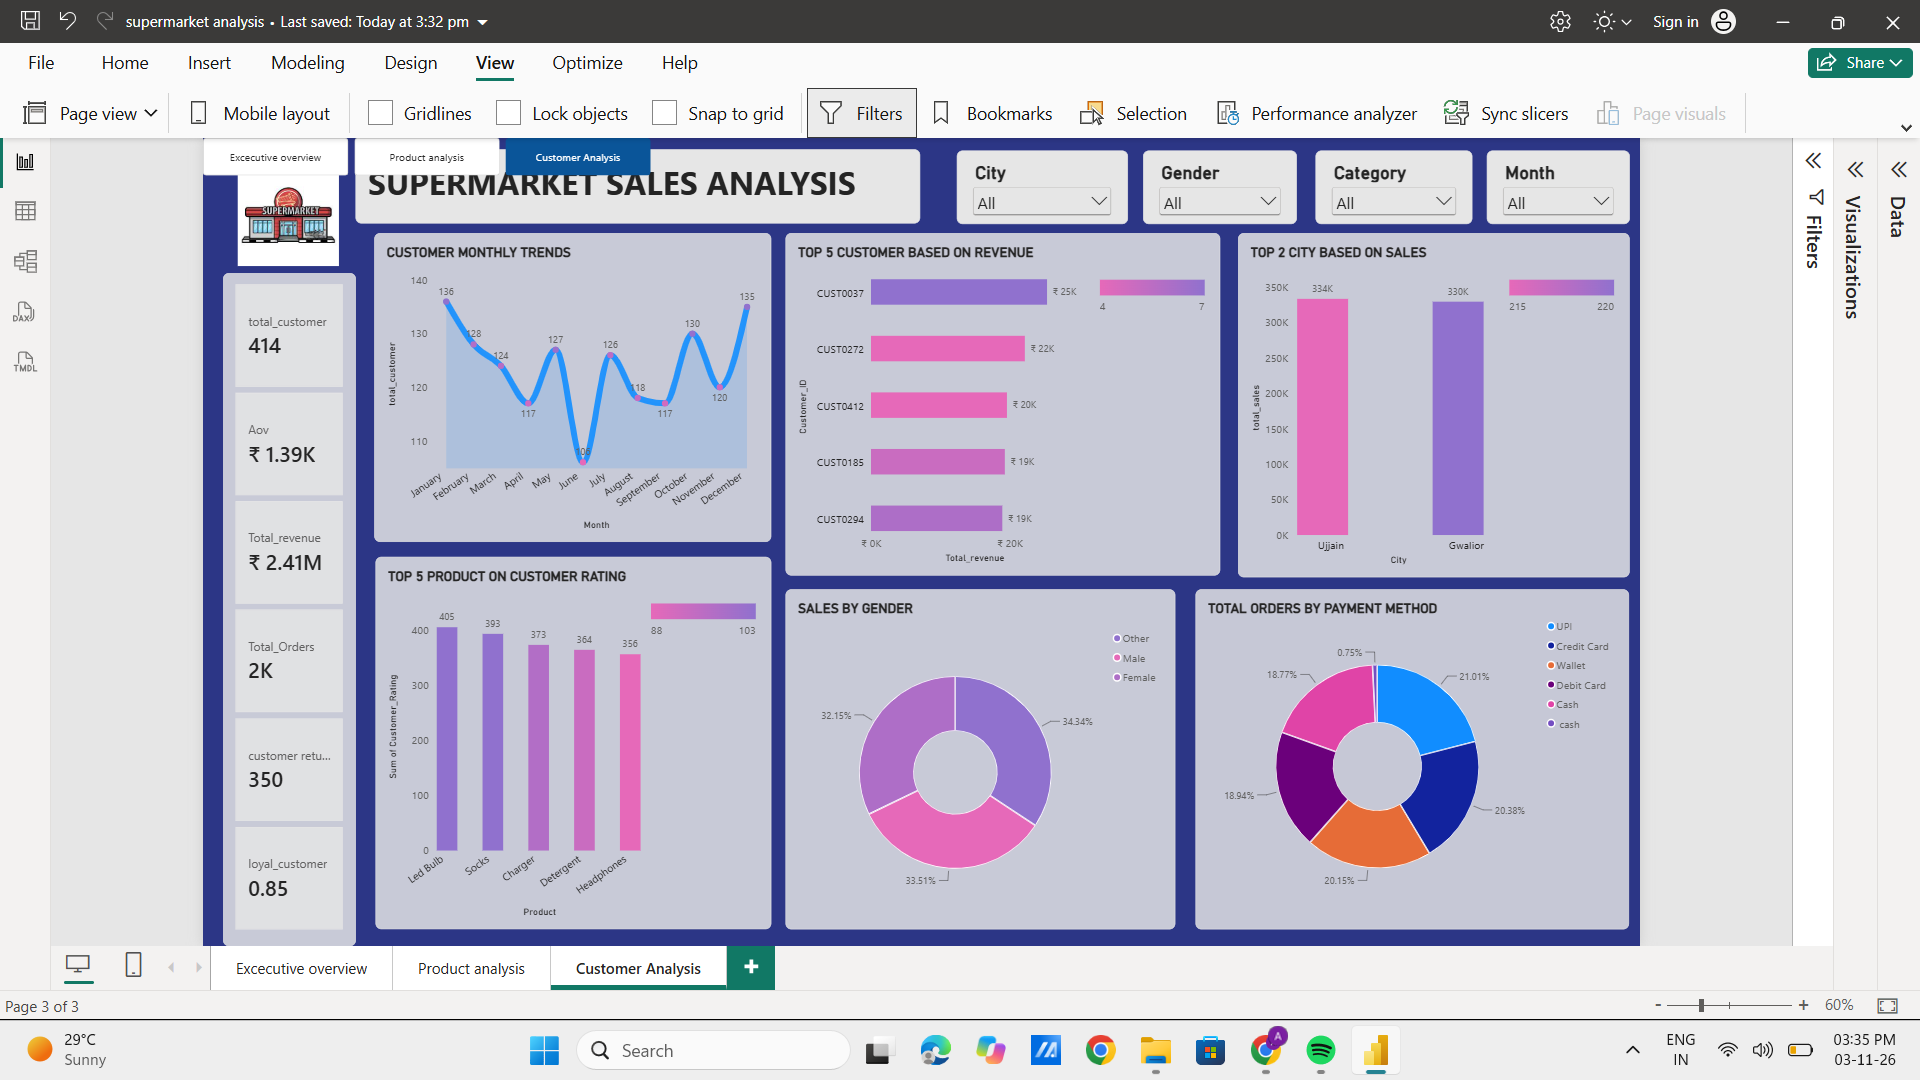

This screenshot's page, from the dashboard's own definition file:
{"tool":"powerbi","page":{"name":"Customer Analysis","canvas":[1920,1080],"ordinal":2},"visuals":[{"type":"image","box":[0,34.4,228,135.7],"z":0},{"type":"textbox","box":[204.5,14.5,754.6,99.5],"z":1000},{"type":"cardVisual","fields":{"Data":["CATEGORY TARGETS.total_customer","Supermarket_Sales_Customer_Analysis_RAW (2).Aov","Supermarket_Sales_Customer_Analysis_RAW (2).Total_revenue","Supermarket_Sales_Customer_Analysis_RAW (2).Total_Orders","CATEGORY TARGETS.customer returning","Supermarket_Sales_Customer_Analysis_RAW (2).loyal_customer"]},"box":[27.1,181,177.3,899.4],"z":2000},{"type":"lineChart","title":"CUSTOMER MONTHLY TRENDS","fields":{"Category":["Supermarket_Sales_Customer_Analysis_RAW (2).Order_Date.Variation.Date Hierarchy.Month"],"Y":["CATEGORY TARGETS.total_customer"]},"box":[228,126.7,530.2,412.6],"z":3000},{"type":"donutChart","title":"SALES BY GENDER ","fields":{"Category":["Supermarket_Sales_Customer_Analysis_RAW (2).Gender"],"Y":["CATEGORY TARGETS.total_sales"]},"box":[778.2,602.6,521.2,454.2],"z":4000},{"type":"pieChart","title":"TOTAL ORDERS BY PAYMENT METHOD ","fields":{"Category":["Supermarket_Sales_Customer_Analysis_RAW (2).Payment_Method"],"Y":["Supermarket_Sales_Customer_Analysis_RAW (2).Total_Orders"]},"box":[1326.5,602.6,579.1,454.2],"z":5000},{"type":"clusteredColumnChart","title":"TOP 5 PRODUCT ON CUSTOMER RATING ","fields":{"Category":["Supermarket_Sales_Customer_Analysis_RAW (2).Product"],"Y":["Sum(Supermarket_Sales_Customer_Analysis_RAW (2).Customer_Rating)"]},"box":[229.8,559.2,528.4,497.7],"z":6000},{"type":"barChart","title":"TOP 5 CUSTOMER BASED ON REVENUE","fields":{"Category":["Supermarket_Sales_Customer_Analysis_RAW (2).Customer_ID"],"Y":["Supermarket_Sales_Customer_Analysis_RAW (2).Total_revenue"]},"box":[778.2,126.7,580.9,457.8],"z":7000},{"type":"columnChart","title":"TOP 2 CITY BASED ON SALES ","fields":{"Category":["Supermarket_Sales_Customer_Analysis_RAW (2).City"],"Y":["CATEGORY TARGETS.total_sales"]},"box":[1382.6,126.7,523,459.7],"z":8000},{"type":"slicer","fields":{"Values":["Supermarket_Sales_Customer_Analysis_RAW (2).City"]},"box":[1006.5,16.5,228.5,98.8],"z":9000},{"type":"slicer","fields":{"Values":["Supermarket_Sales_Customer_Analysis_RAW (2).Gender"]},"box":[1255.6,16.5,205.8,98.8],"z":10000},{"type":"slicer","fields":{"Values":["Supermarket_Sales_Customer_Analysis_RAW (2).Category"]},"box":[1486.1,16.5,209.9,98.8],"z":11000},{"type":"slicer","fields":{"Values":["Supermarket_Sales_Customer_Analysis_RAW (2).Order_Date.Variation.Date Hierarchy.Month"]},"box":[1714.6,16.5,191.4,98.8],"z":12000},{"type":"pageNavigator","box":[0,0,600,50],"z":13000}]}

Visuals, with their boxes on the page's 1920x1080 design canvas (x1, y1, x2, y2). These are canvas units, not pixel positions in the 1920x1080 screenshot, which may show the page scaled, cropped or inside an application window:
image: x1=0 y1=34 x2=228 y2=170
textbox: x1=204 y1=14 x2=959 y2=114
cardVisual - CATEGORY TARGETS.total_customer x Supermarket_Sales_Customer_Analysis_RAW (2).Aov: x1=27 y1=181 x2=204 y2=1080
"CUSTOMER MONTHLY TRENDS" lineChart: x1=228 y1=127 x2=758 y2=539
"SALES BY GENDER " donutChart: x1=778 y1=603 x2=1299 y2=1057
"TOTAL ORDERS BY PAYMENT METHOD " pieChart: x1=1326 y1=603 x2=1906 y2=1057
"TOP 5 PRODUCT ON CUSTOMER RATING " clusteredColumnChart: x1=230 y1=559 x2=758 y2=1057
"TOP 5 CUSTOMER BASED ON REVENUE" barChart: x1=778 y1=127 x2=1359 y2=584
"TOP 2 CITY BASED ON SALES " columnChart: x1=1383 y1=127 x2=1906 y2=586
slicer - Supermarket_Sales_Customer_Analysis_RAW (2).City: x1=1006 y1=16 x2=1235 y2=115
slicer - Supermarket_Sales_Customer_Analysis_RAW (2).Gender: x1=1256 y1=16 x2=1461 y2=115
slicer - Supermarket_Sales_Customer_Analysis_RAW (2).Category: x1=1486 y1=16 x2=1696 y2=115
slicer - Supermarket_Sales_Customer_Analysis_RAW (2).Order_Date.Variation.Date Hierarchy.Month: x1=1715 y1=16 x2=1906 y2=115
pageNavigator: x1=0 y1=0 x2=600 y2=50
